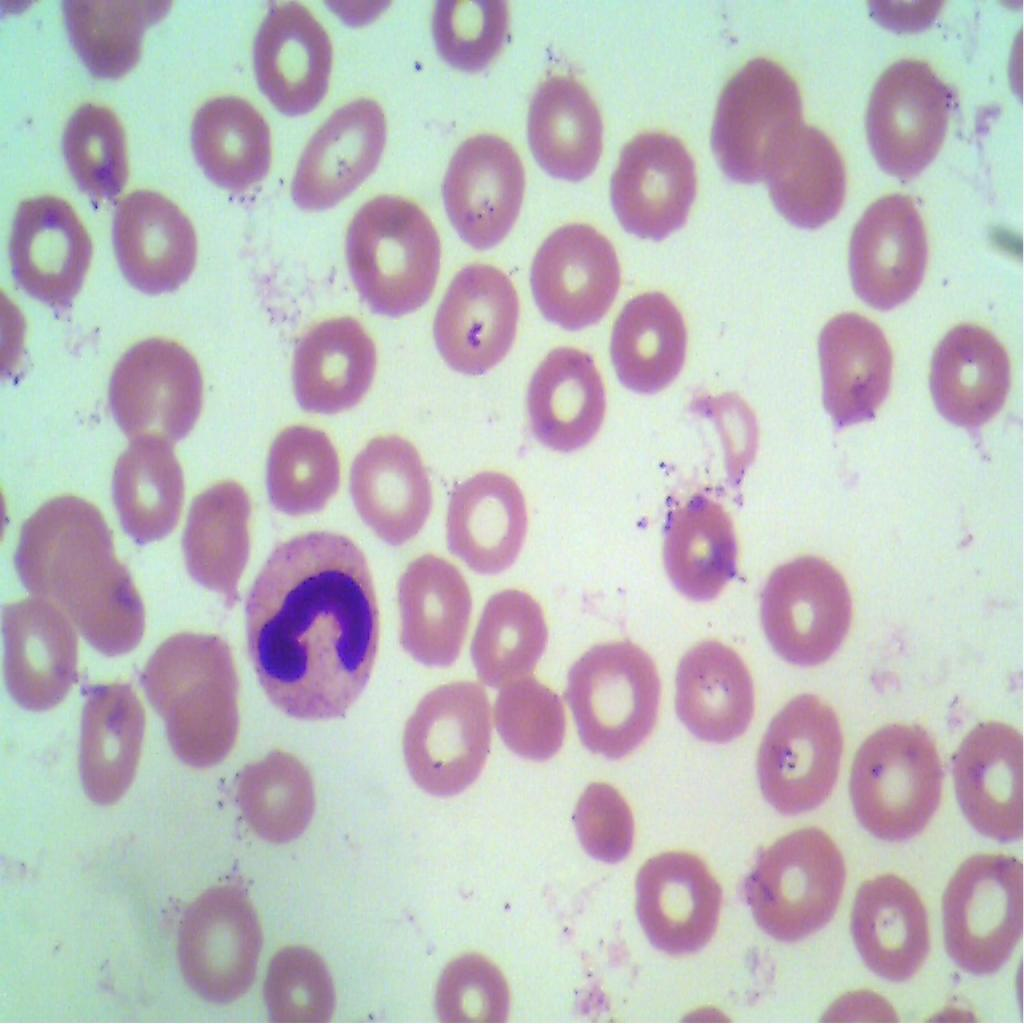Eritrosit: (852, 48, 958, 192), (338, 181, 446, 318), (596, 109, 703, 245), (829, 184, 941, 312), (751, 544, 854, 678), (168, 874, 274, 1004), (0, 184, 102, 319), (398, 674, 498, 808), (515, 335, 623, 459), (423, 257, 526, 387), (709, 52, 810, 184), (803, 299, 904, 431), (228, 735, 330, 864), (743, 824, 848, 948), (842, 719, 946, 842), (381, 538, 475, 672), (558, 634, 664, 752), (654, 482, 748, 615), (276, 312, 391, 420), (433, 124, 528, 254), (284, 100, 393, 211), (934, 851, 1023, 985), (755, 687, 844, 820), (244, 0, 343, 118), (670, 627, 756, 762), (526, 222, 626, 337), (523, 71, 618, 192), (116, 180, 210, 302), (854, 862, 940, 994), (181, 82, 278, 199), (16, 484, 110, 602), (346, 426, 433, 550), (0, 594, 91, 712), (254, 417, 348, 531), (753, 122, 848, 234), (623, 847, 719, 957), (928, 308, 1011, 434), (101, 343, 201, 445), (46, 88, 136, 200), (946, 710, 1023, 840), (66, 554, 155, 666), (440, 464, 526, 577), (486, 651, 566, 768), (136, 630, 241, 719), (606, 296, 690, 406), (74, 684, 151, 802), (106, 434, 188, 541), (249, 915, 330, 1023), (686, 378, 773, 474), (178, 478, 250, 594), (466, 588, 552, 678), (159, 681, 242, 772), (430, 950, 520, 1023), (570, 784, 641, 871), (426, 0, 510, 71)
Neutrofil: (241, 527, 384, 728)
